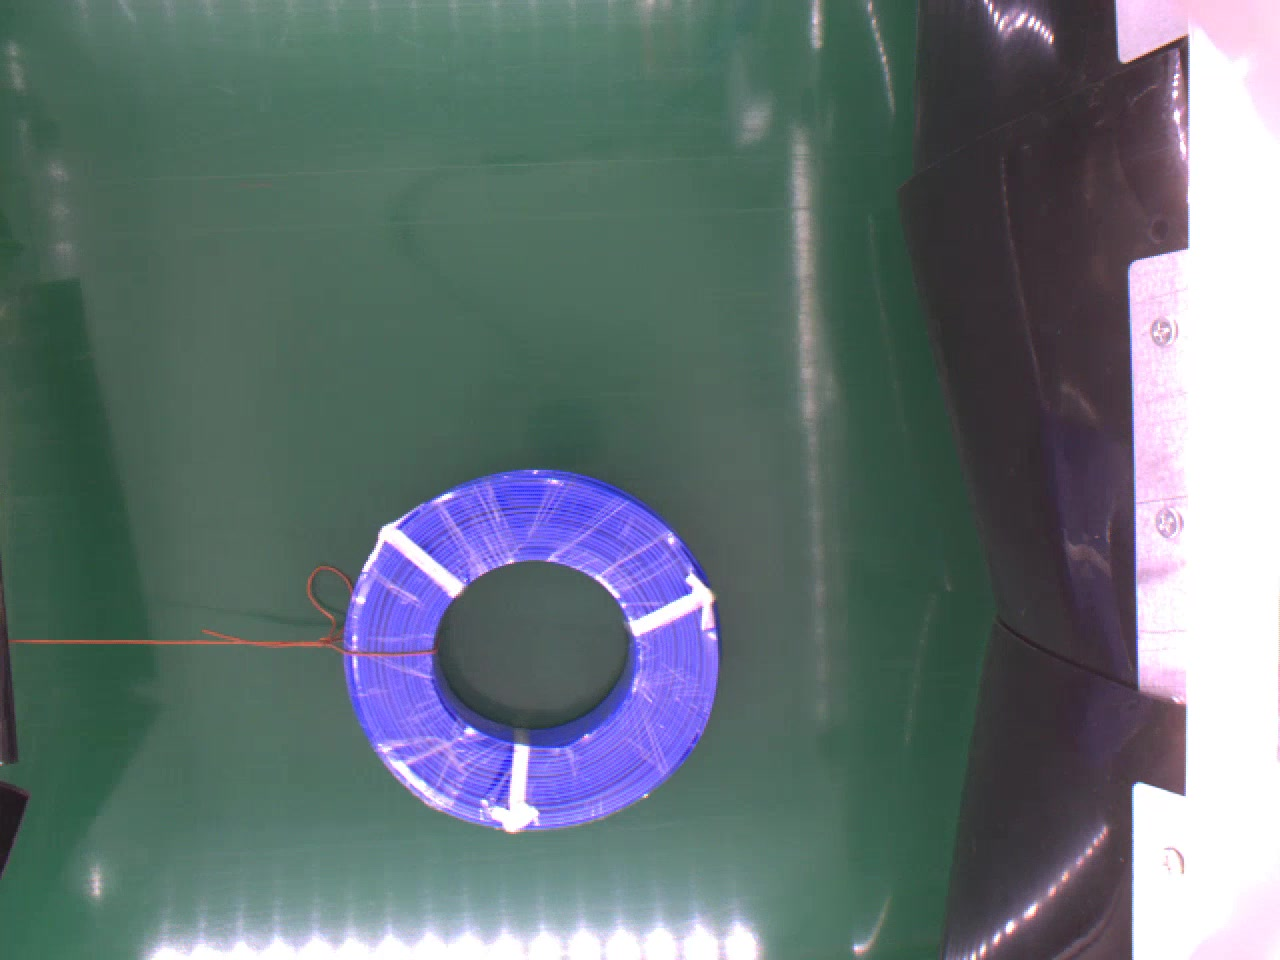blue: (346, 469, 725, 843)
